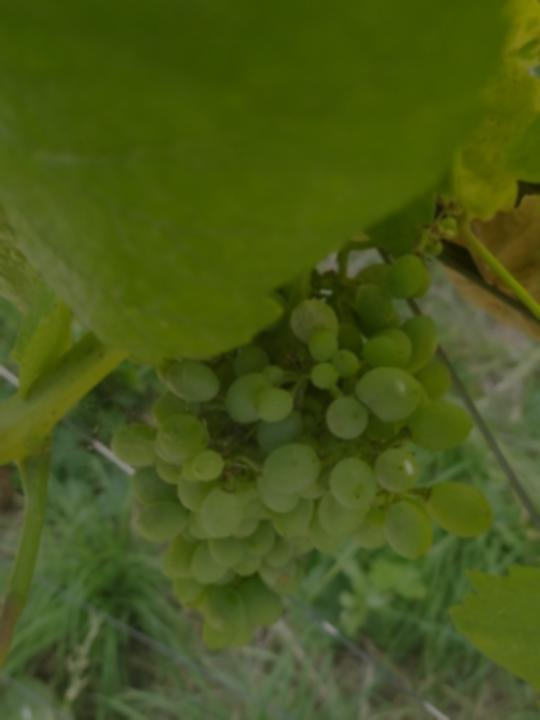grape: (101, 197, 498, 662)
